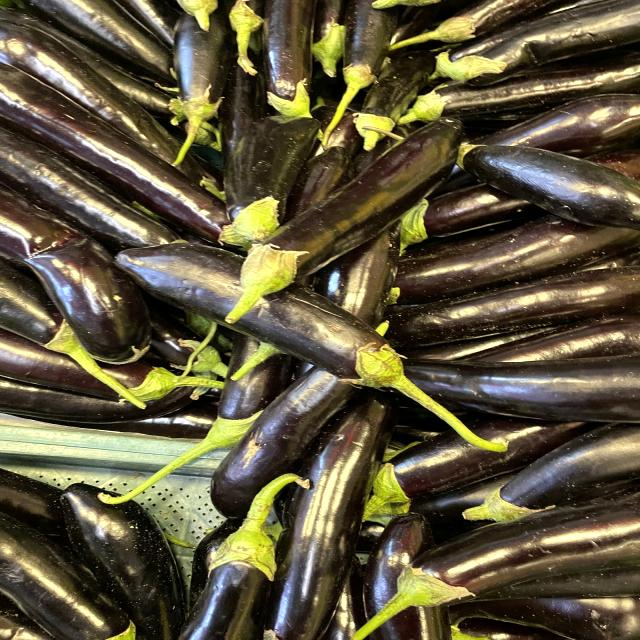eggplant: (113, 243, 515, 455), (222, 108, 478, 341)
